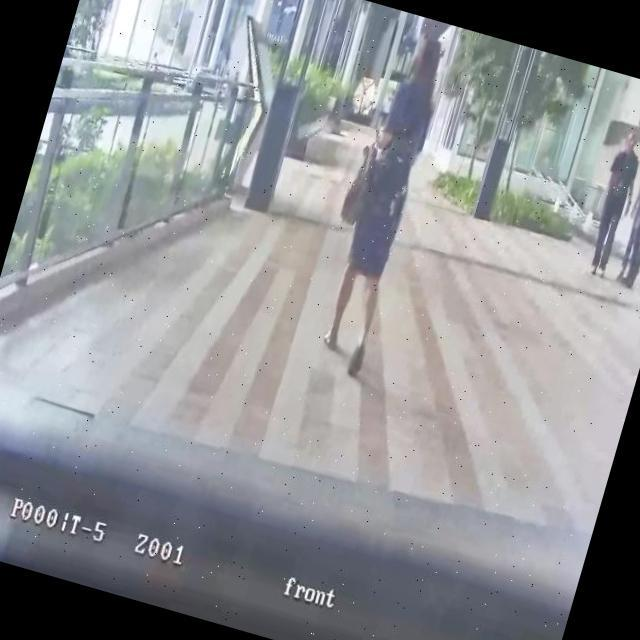person: (309, 28, 456, 380), (580, 128, 640, 280), (609, 132, 640, 291)
